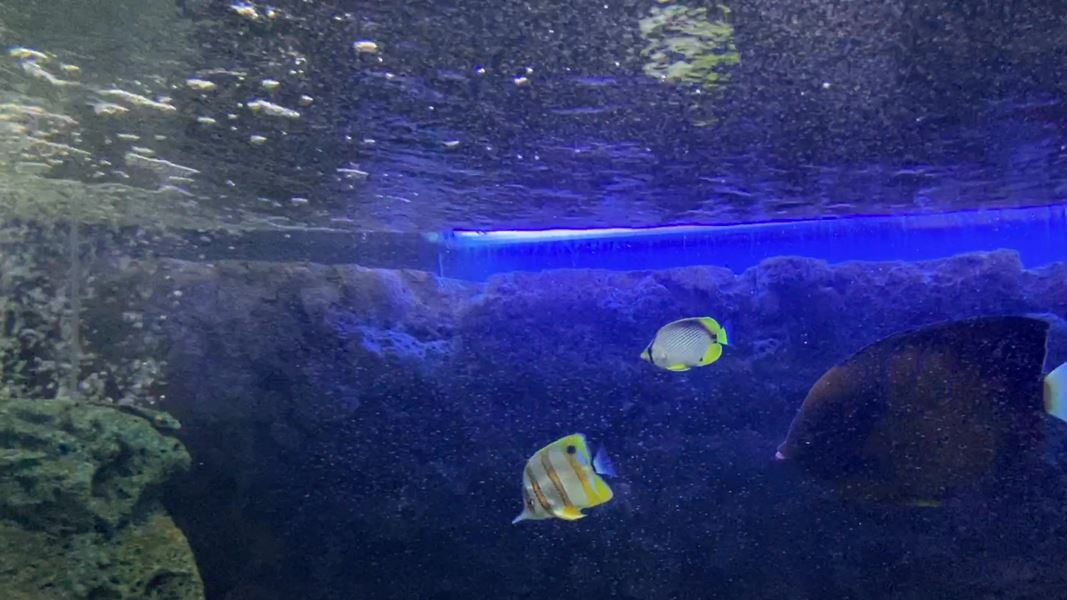Black-backed butterflyfish: (634, 310, 743, 381)
